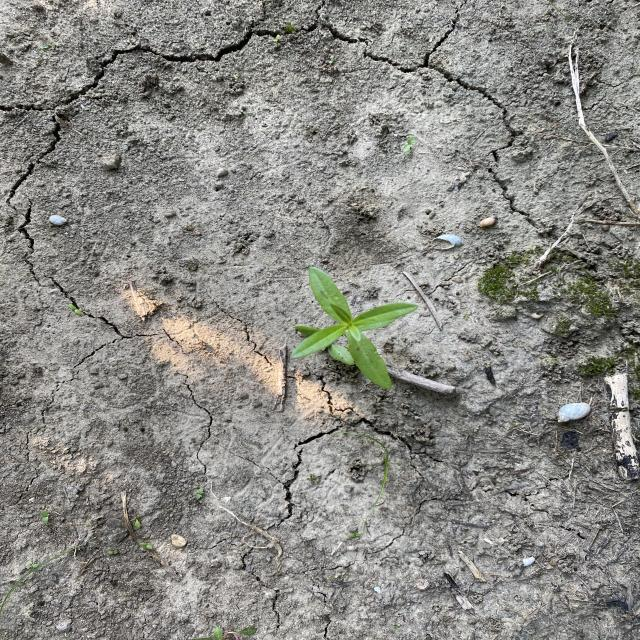Eclipta: (289, 266, 422, 392)
